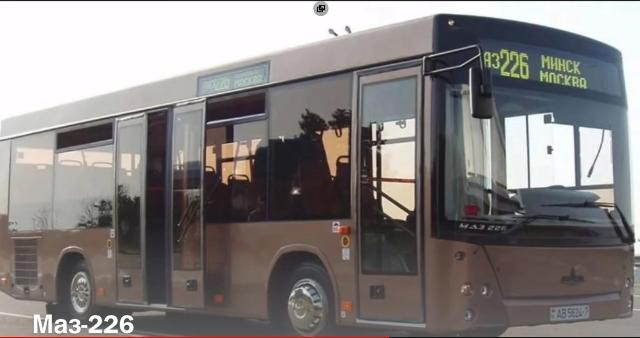bus: (0, 12, 640, 333)
